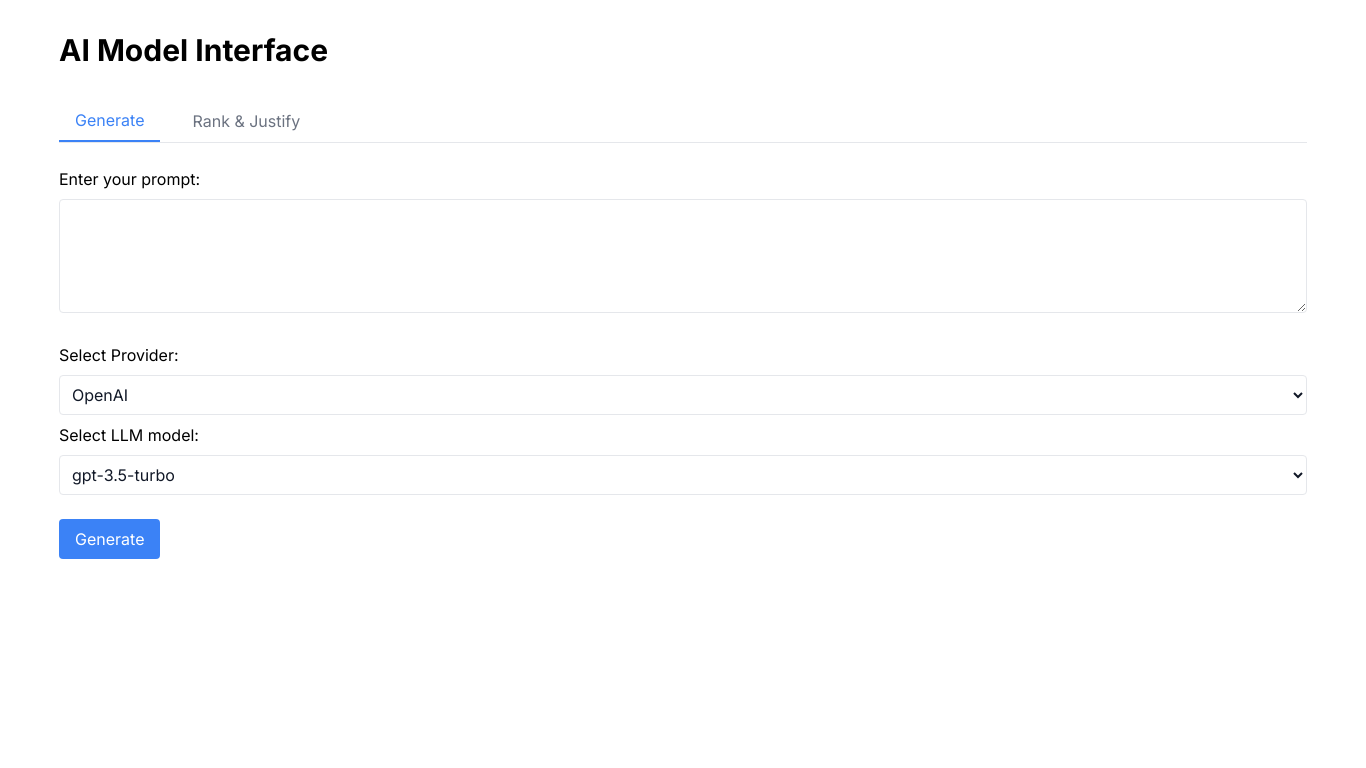
Test: Home component › submits form and displays result
Expected: the dropdown labelled "Select Provider:" shows "OpenAI", [59,375,1307,415]
Expected: the dropdown labelled "Select LLM model:" shows "gpt-3.5-turbo", [59,455,1307,495]
Type "Test prompt" into the text box labelled "Enter your prompt:" at (683,256), box [59,199,1307,313]
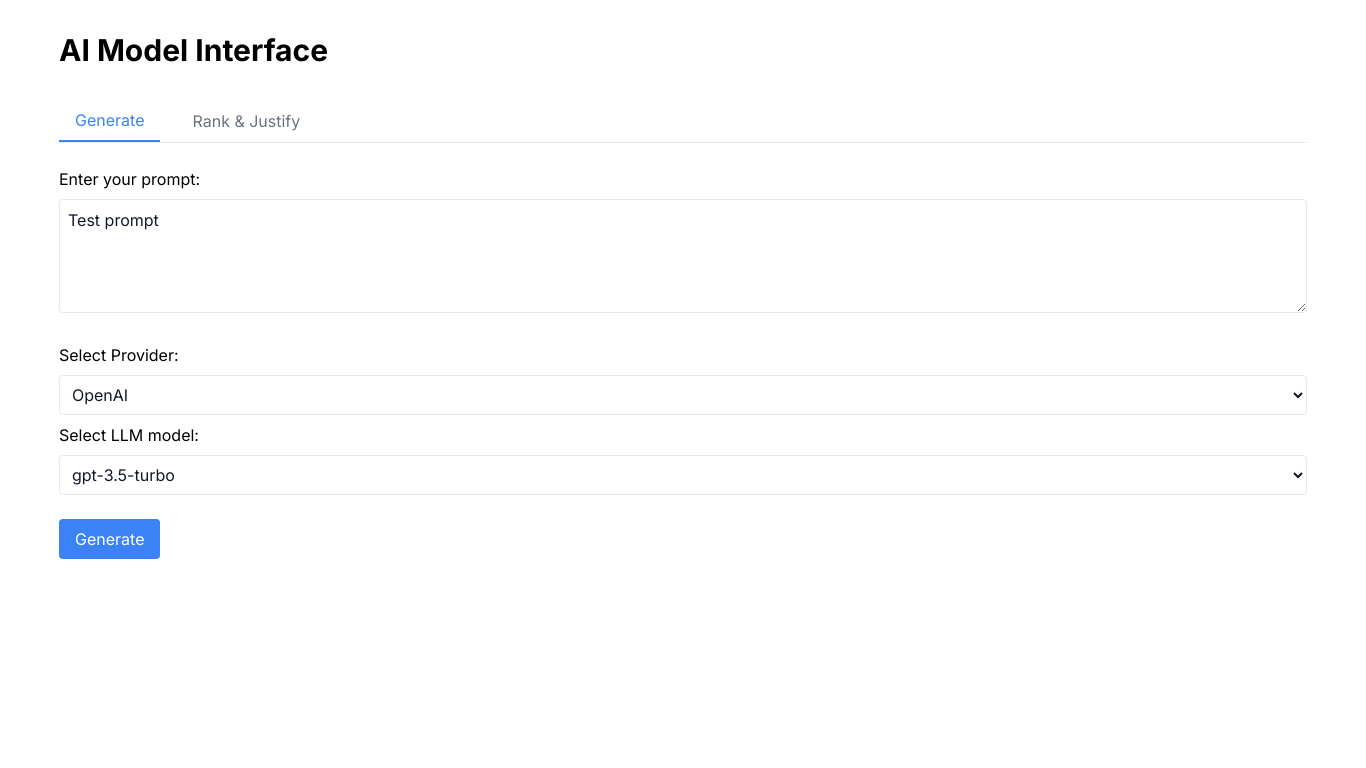
Click the button "Generate" below "Select LLM model:" at (110,539), box [59,519,160,559]
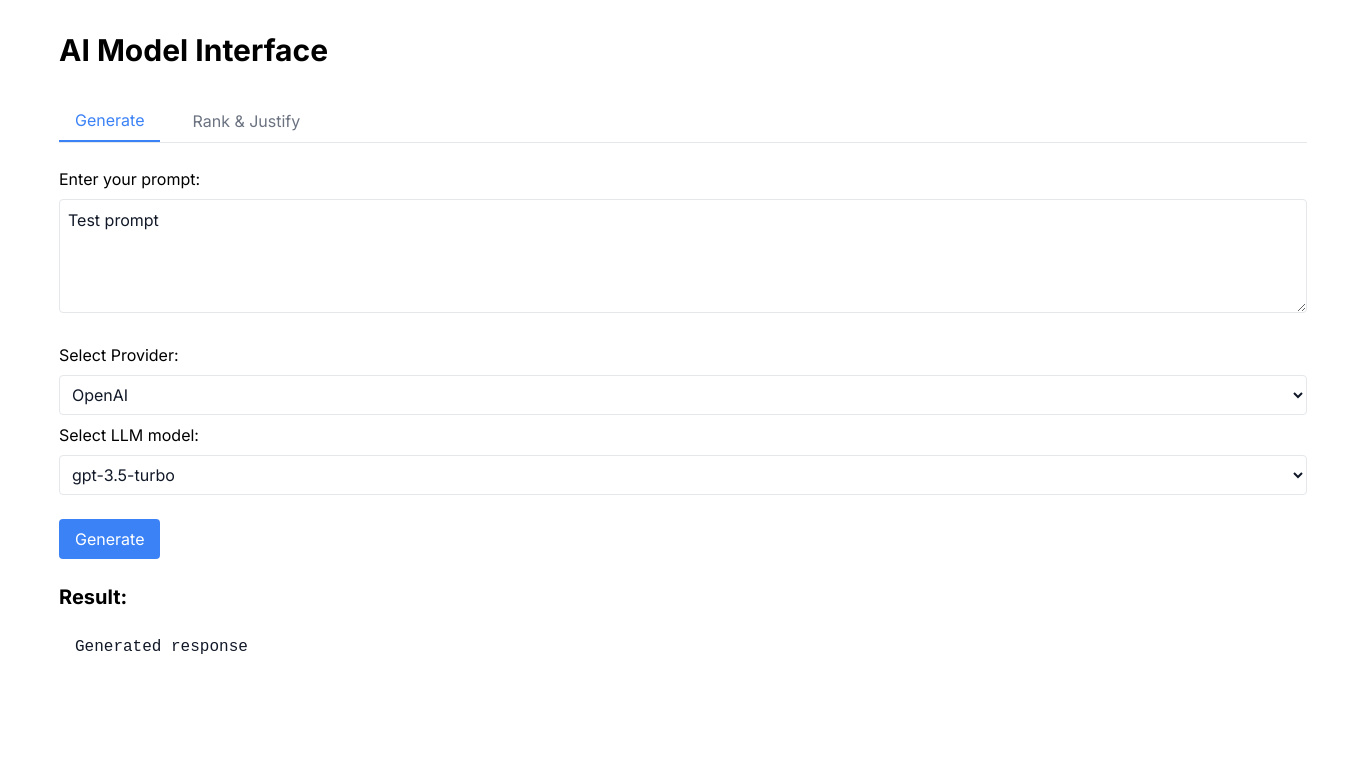
Result: the heading "Result:" is shown at [59,585,127,609]
Result: the text "Generated response" is shown at [59,619,1307,675]
